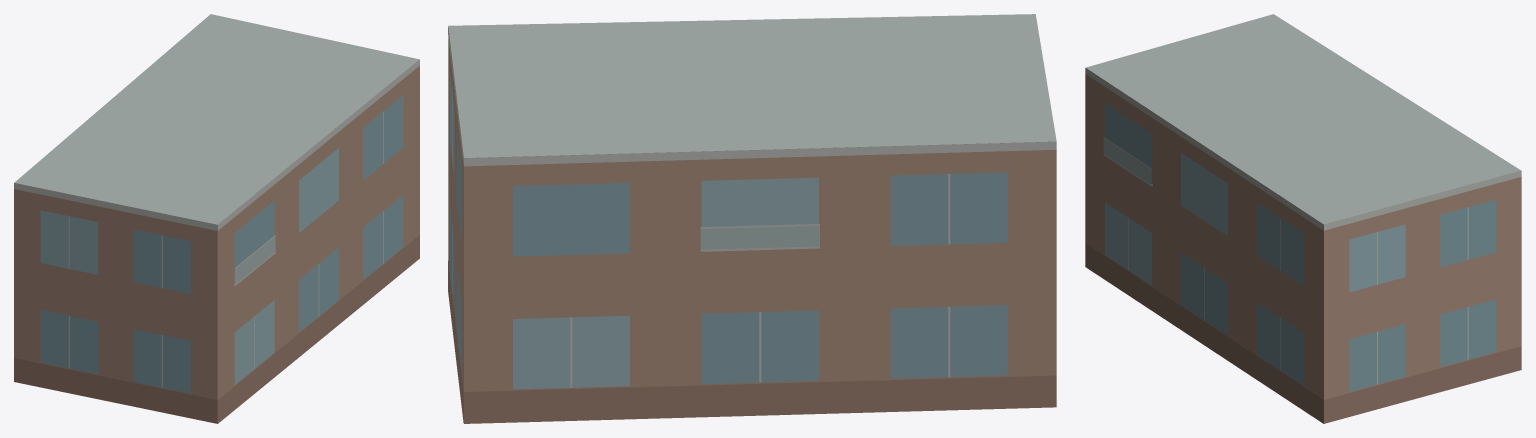
Rendered from survey-upis-32724127.glb.
The picture shows the model from 3 angles, left to right: view 1: azimuth 30°, elevation 25°; view 2: azimuth 150°, elevation 25°; view 3: azimuth 270°, elevation 25°; orthographic projection. The views are drawn at different scales.
Visible parts, largest first — view 1: survey-upis-32724127.tmp; view 2: survey-upis-32724127.tmp; view 3: survey-upis-32724127.tmp.
Boxes of the visible parts, x1,y1,x2,y2 form: survey-upis-32724127.tmp: (14, 14, 419, 423); survey-upis-32724127.tmp: (448, 14, 1056, 423); survey-upis-32724127.tmp: (1085, 14, 1521, 423).
Size of the model in its own units: 17.79 by 7.85 by 15.57.
